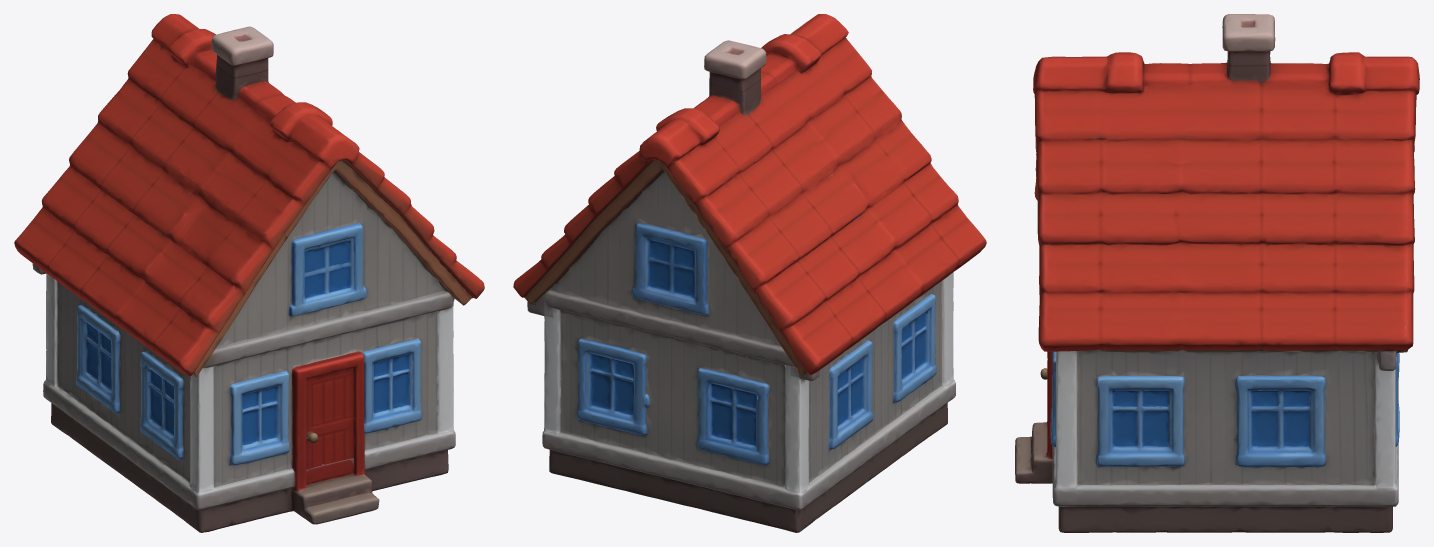
File: casa.glb
The picture shows the model from 3 angles, left to right: view 1: azimuth 30°, elevation 25°; view 2: azimuth 150°, elevation 25°; view 3: azimuth 270°, elevation 25°; orthographic projection. The views are drawn at different scales.
Size of the model in its own units: 0.7906 by 0.9965 by 0.8205.
1 material, 1 textured.
